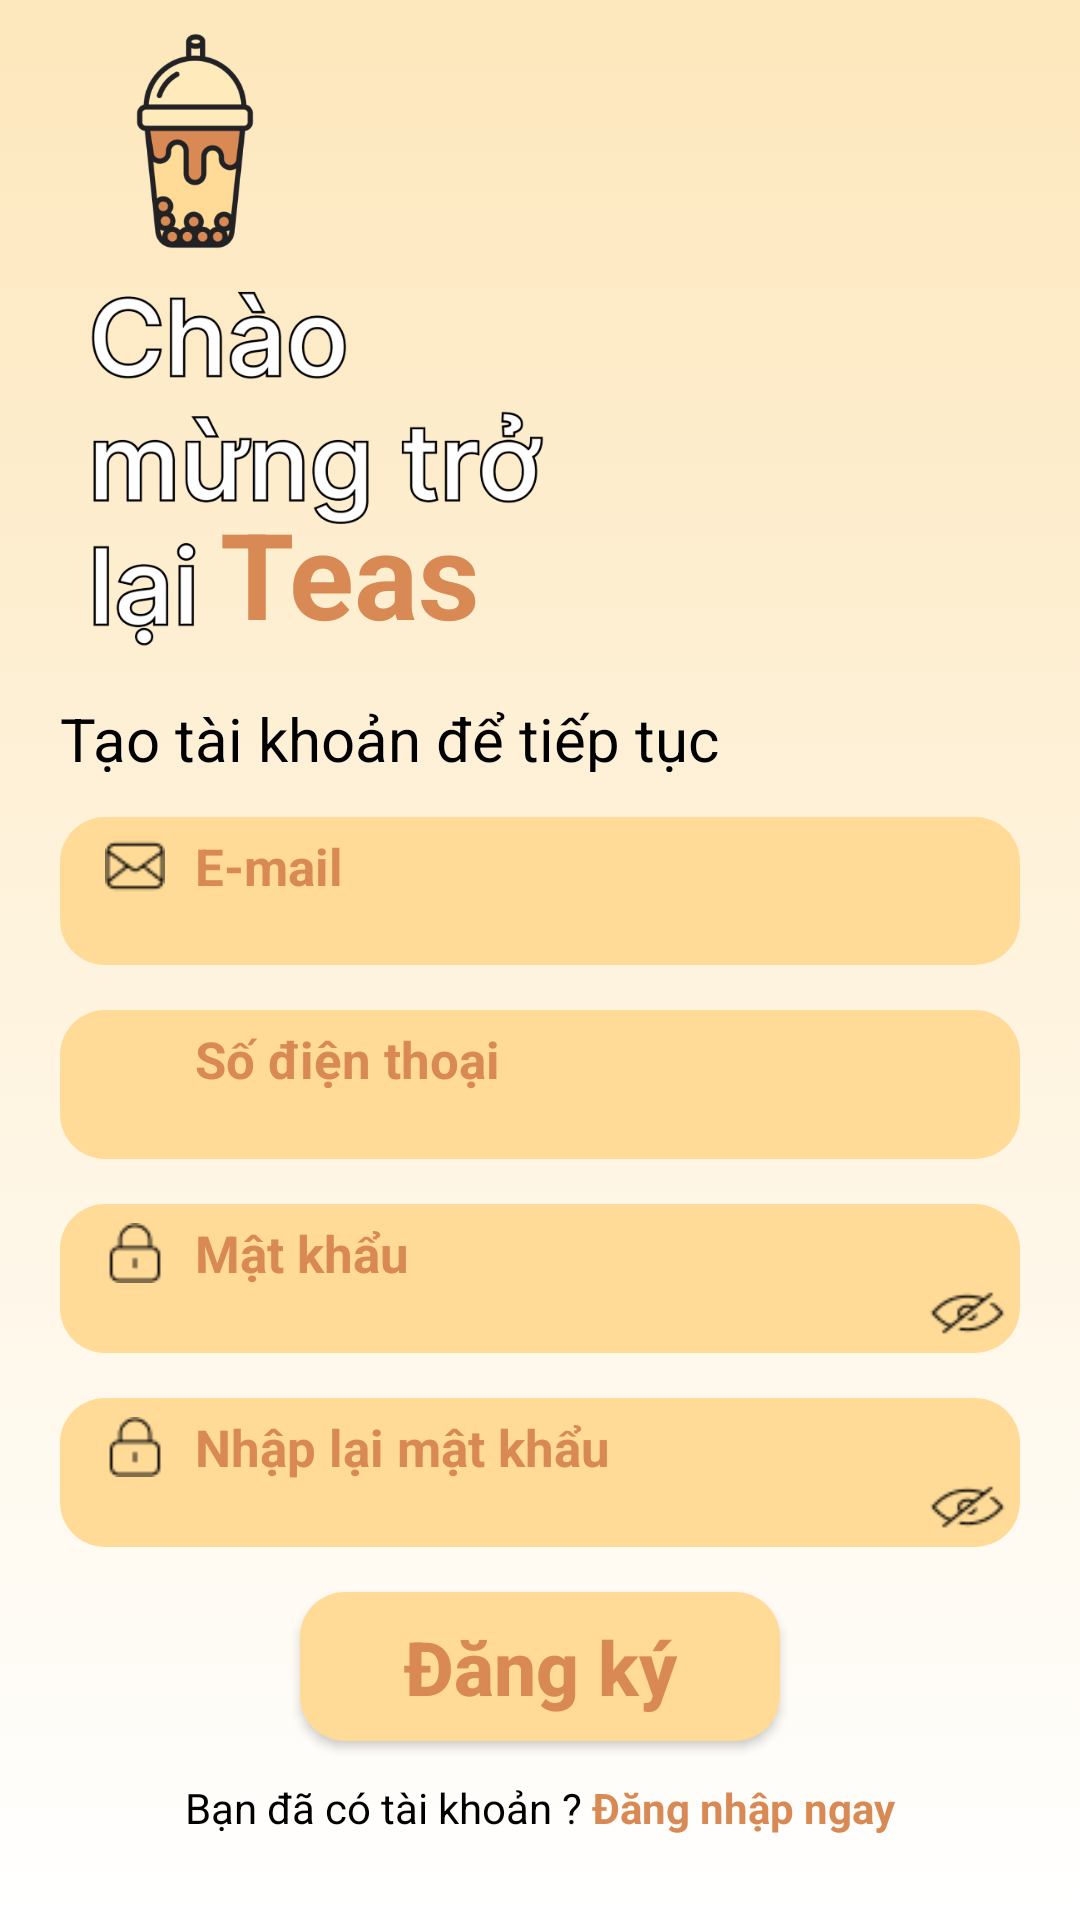

Point at icon controls on the screen. Image size 1080x1920, points as (x=x, y=y).
lock: (x=135, y=1253), (x=135, y=1447)
milktea: (x=195, y=141)
